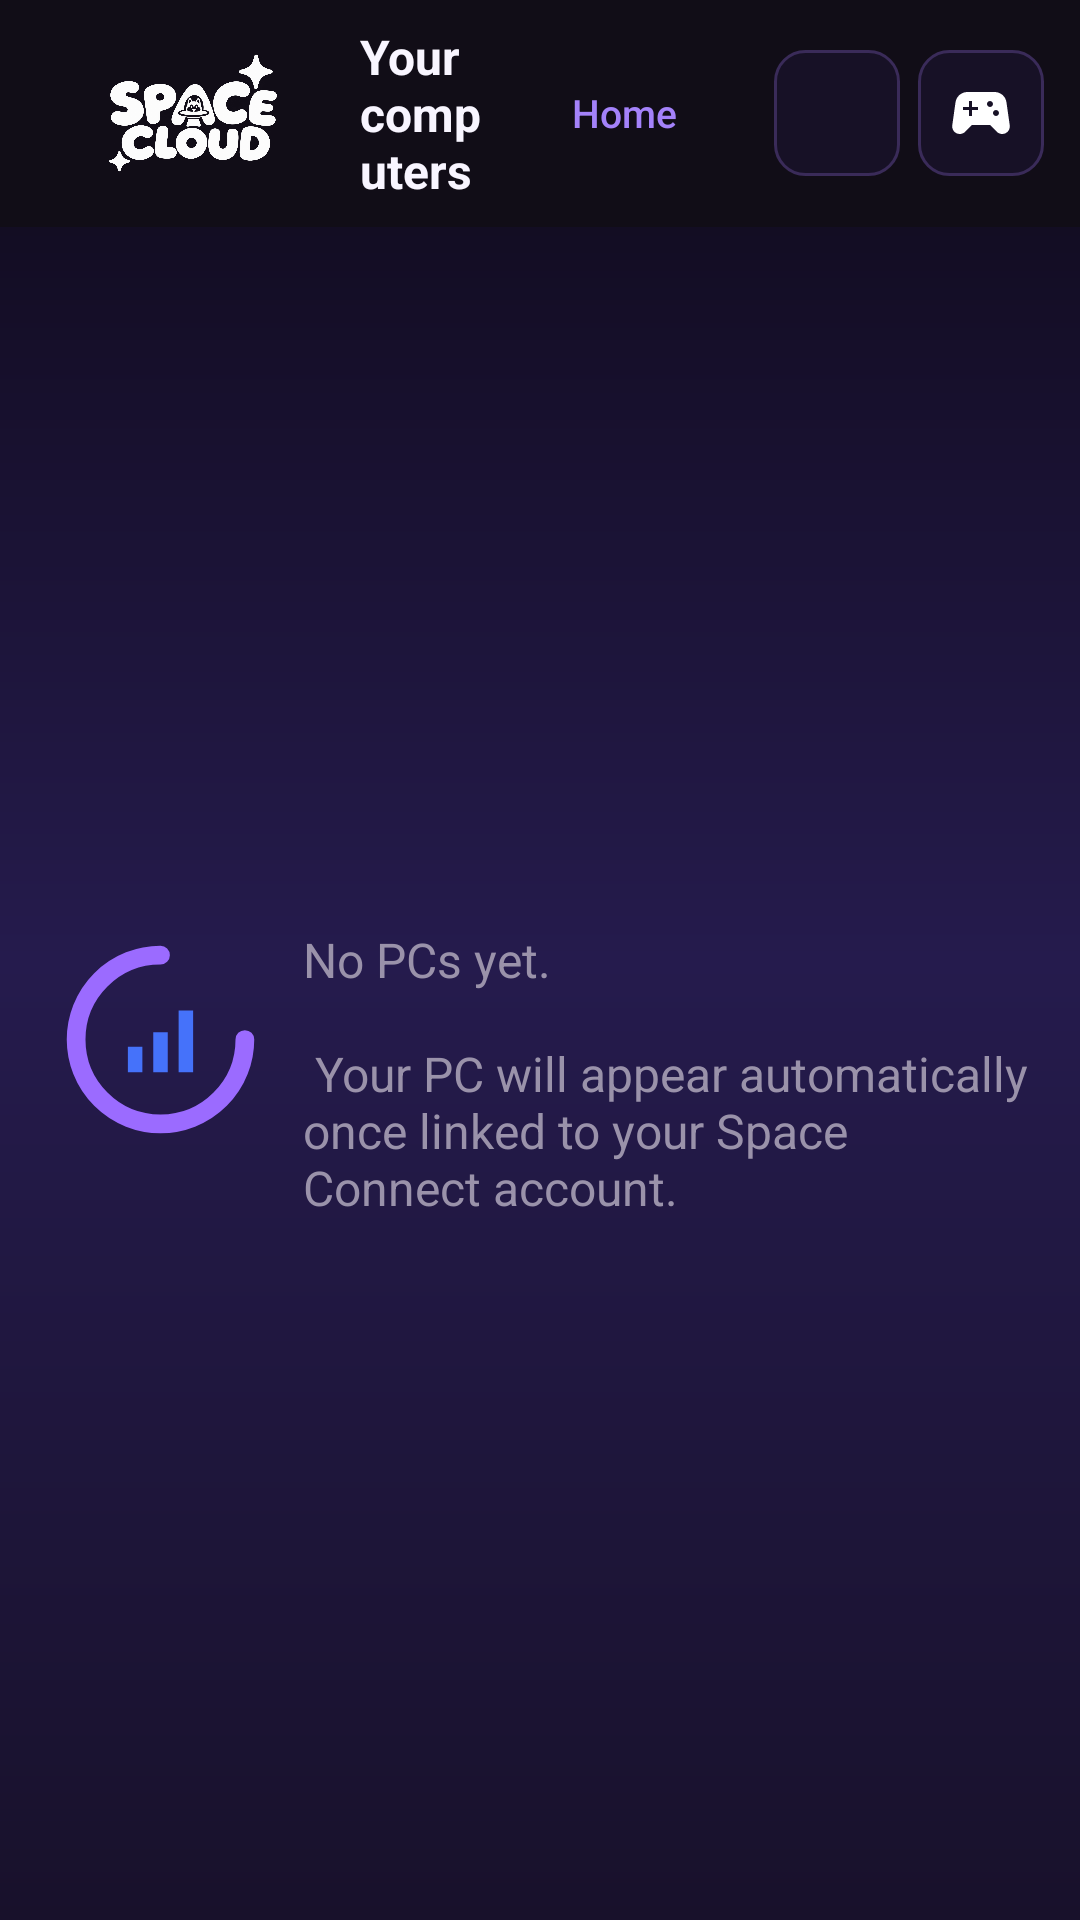

Where icons sit on this 1080 x 1920 app screen, as box=[x1, y1, x2, y2]:
Browse the GamingFlix game catalog: box=[918, 50, 1044, 176]
